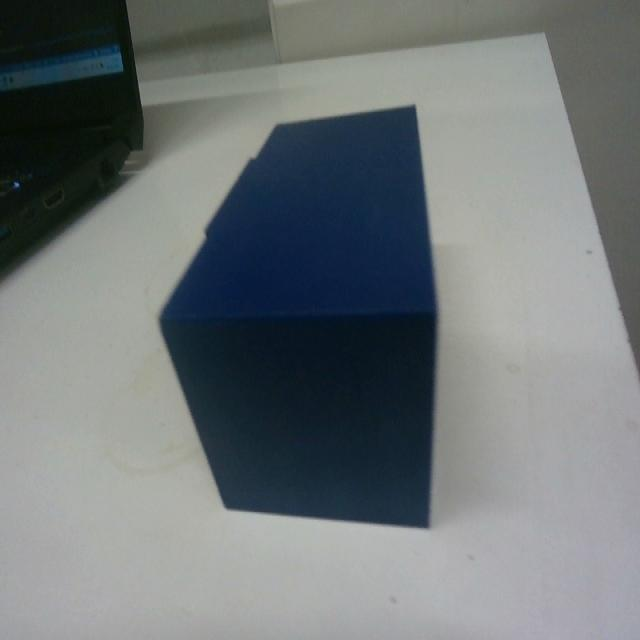Blue Cuboid: (157, 100, 442, 529)
